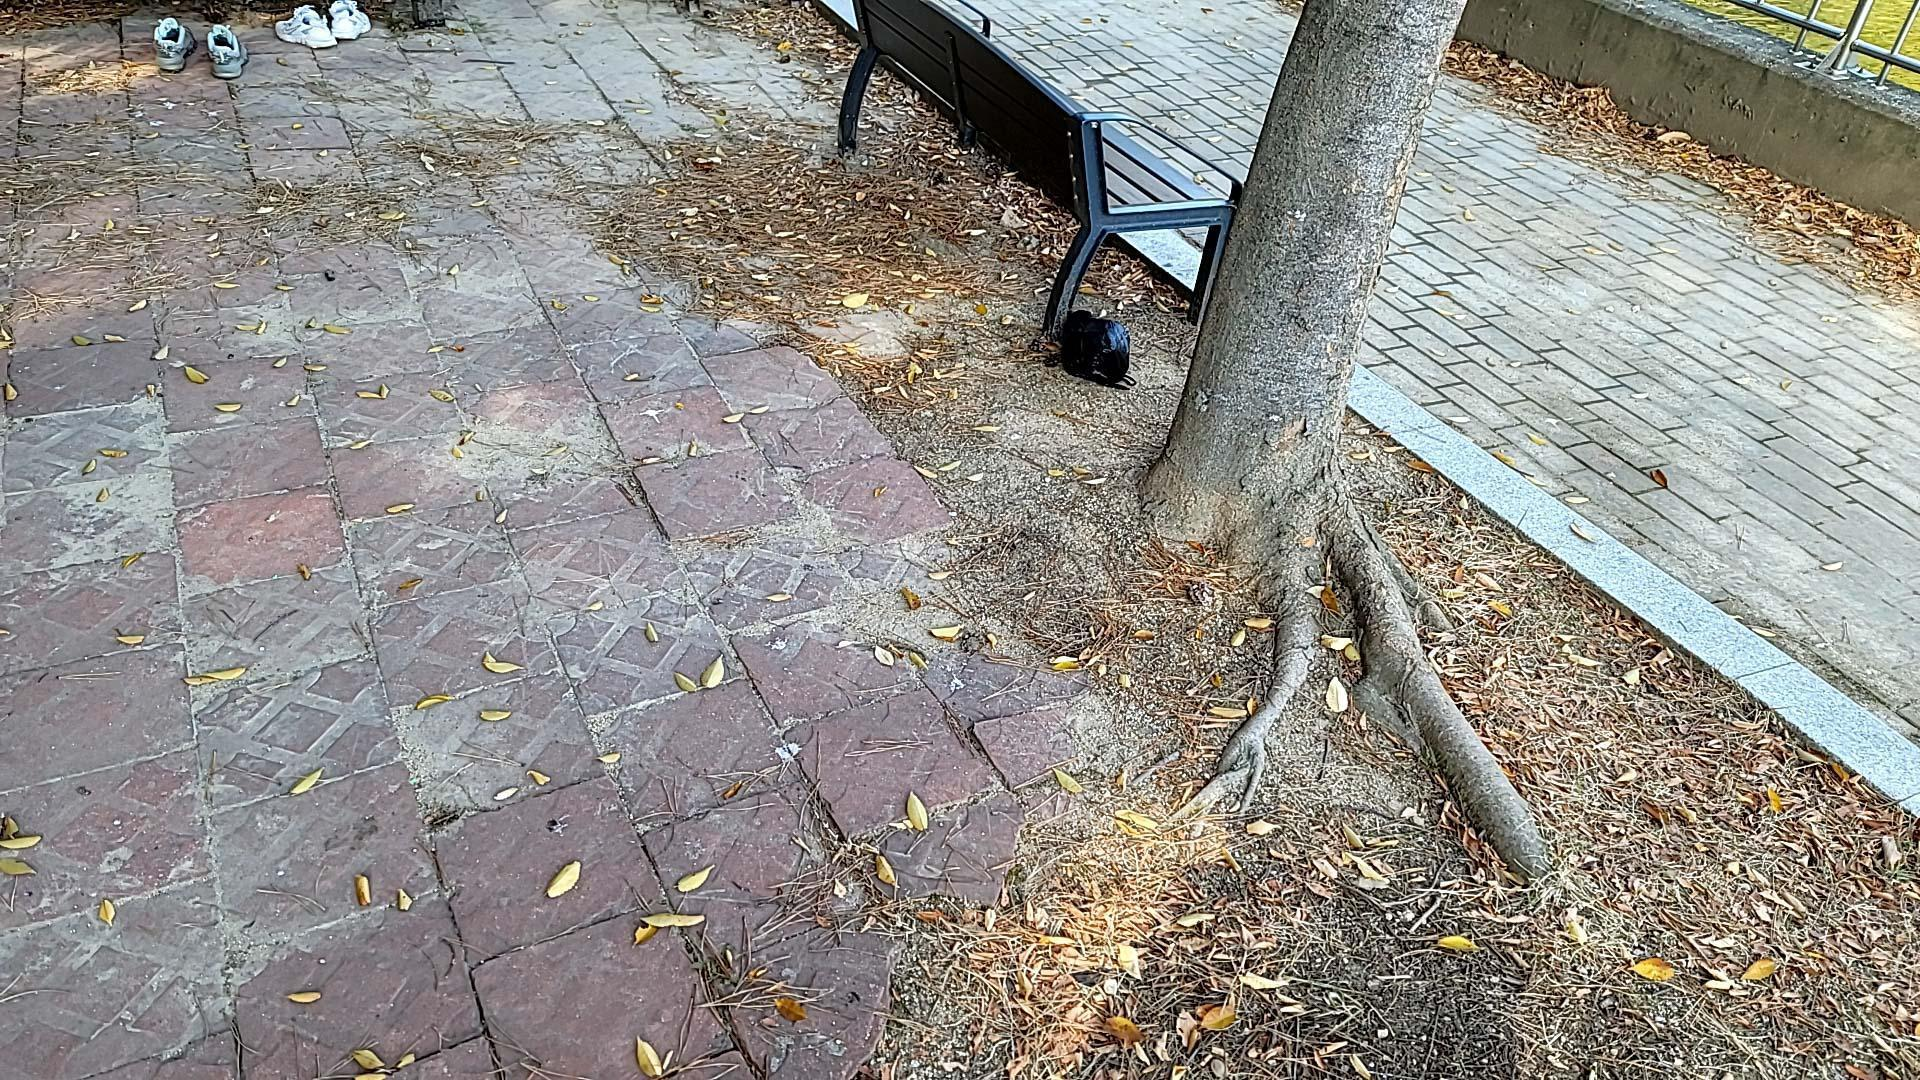black_bag: (1052, 303, 1146, 401)
